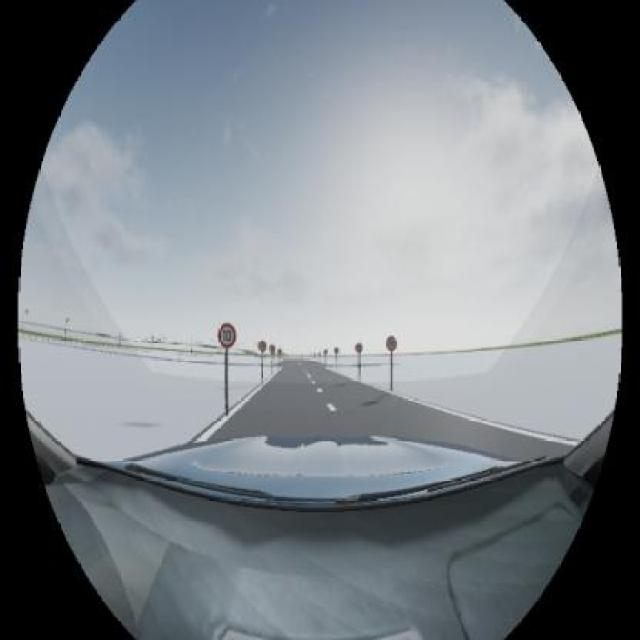forb_speed_over_10: (217, 323, 235, 348), (386, 335, 397, 351)
